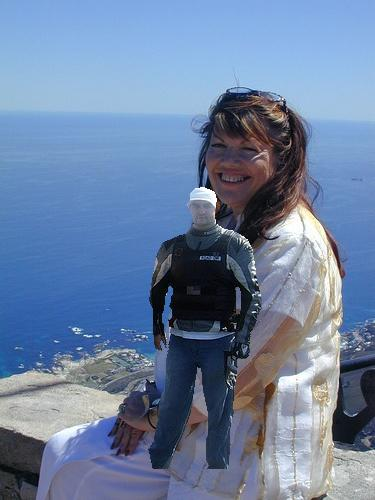tampered: (149, 188, 262, 469)
